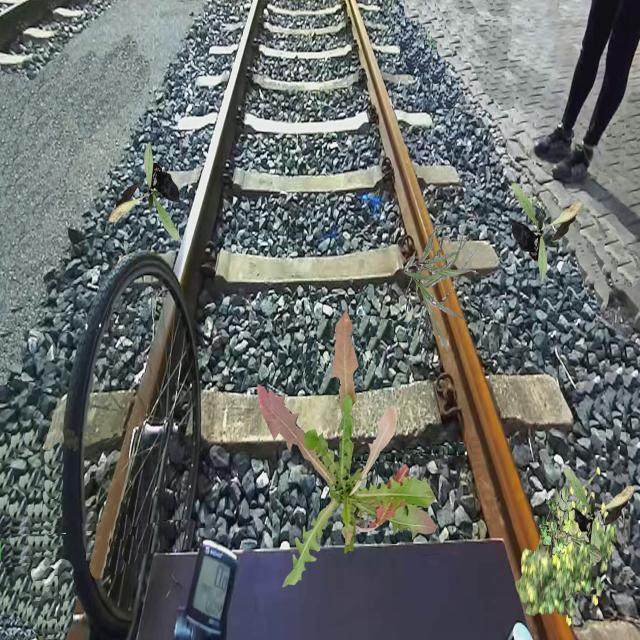Plant: (257, 310, 437, 588), (542, 467, 617, 607), (515, 487, 590, 627), (403, 225, 476, 350), (108, 142, 180, 242), (539, 484, 603, 596), (564, 467, 636, 566), (511, 183, 582, 282), (540, 485, 578, 558)
